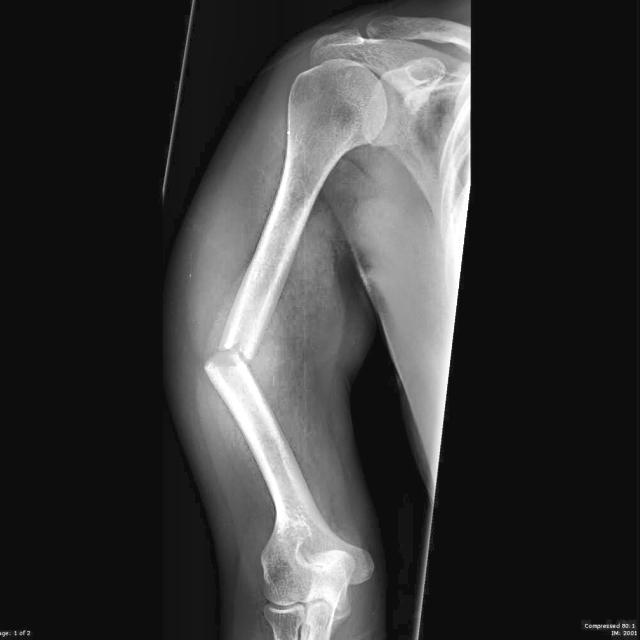messed_up_angle: (200, 342, 258, 374)
